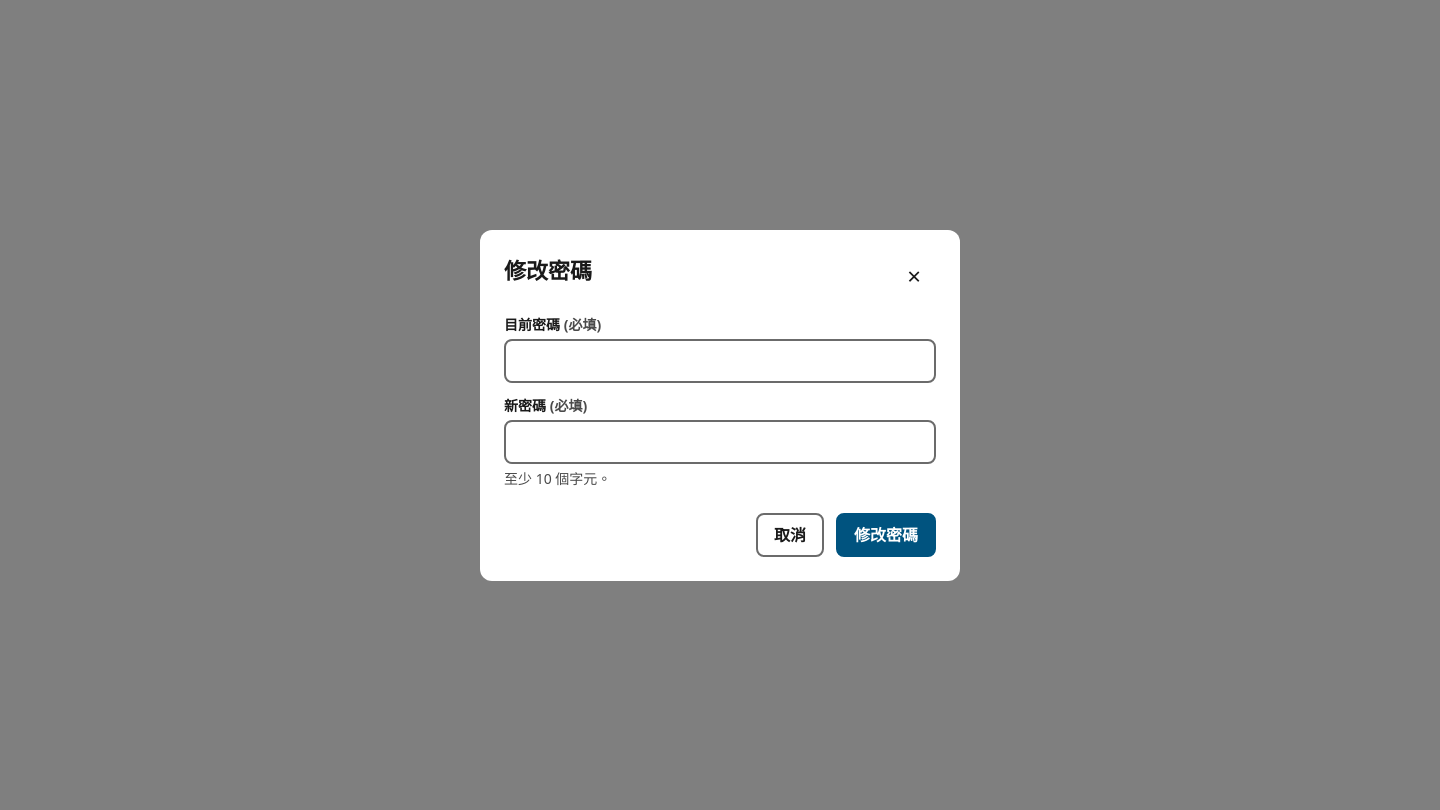
ChangePasswordDialog › shows a friendly CURRENT_PASSWORD_INVALID error
The image size is (1440, 810).
Type "wrongpassword" into the password field labelled "目前密碼 (必填)".
click(720, 360); type("wrongpassword")  # box [504, 338, 936, 382]
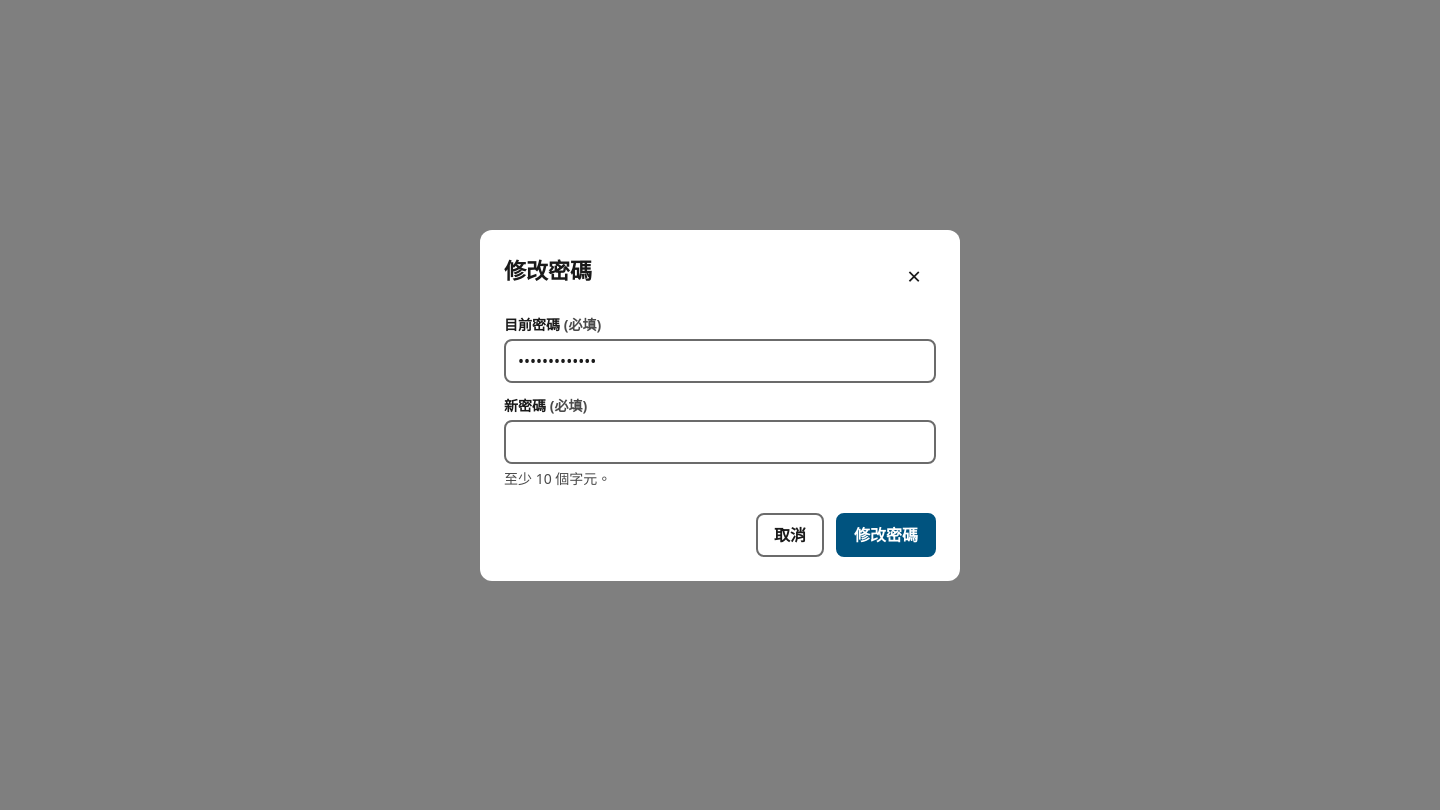
Type "brandnewpassword" into the password field labelled "新密碼 (必填)".
click(720, 442); type("brandnewpassword")  # box [504, 420, 936, 464]
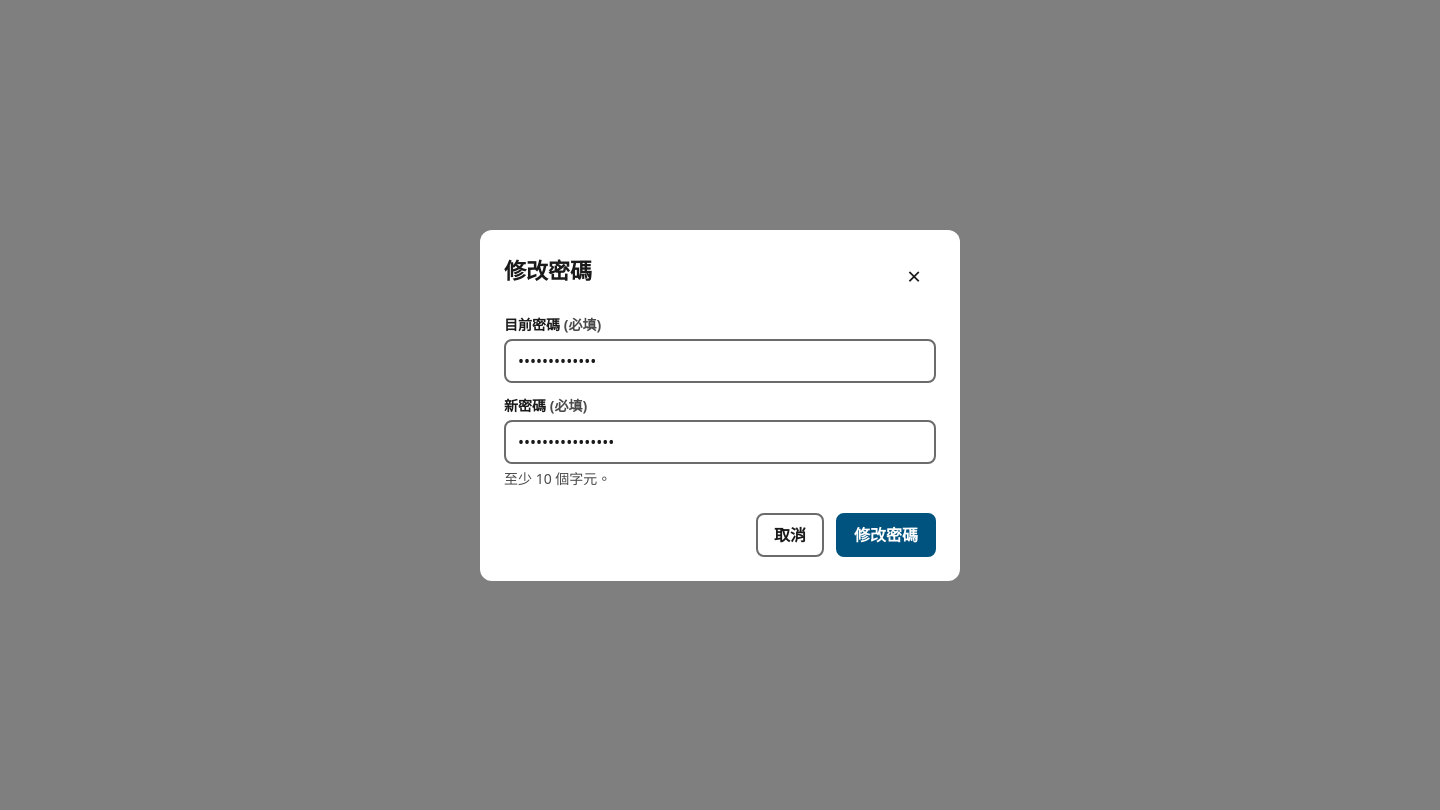
Submit the form, box [504, 314, 936, 488]
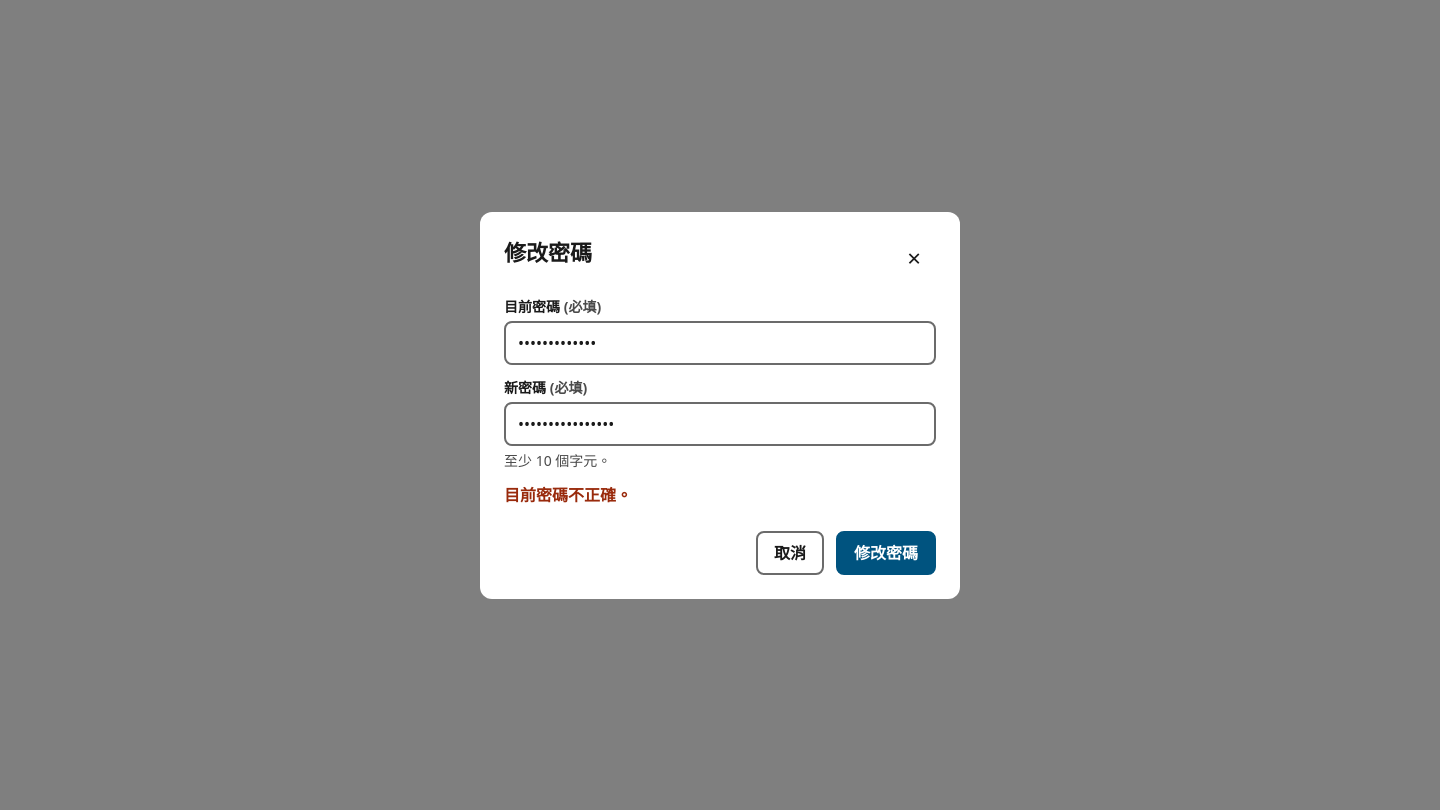
Expected: the text "目前密碼不正確" is shown, [504, 484, 632, 506]
